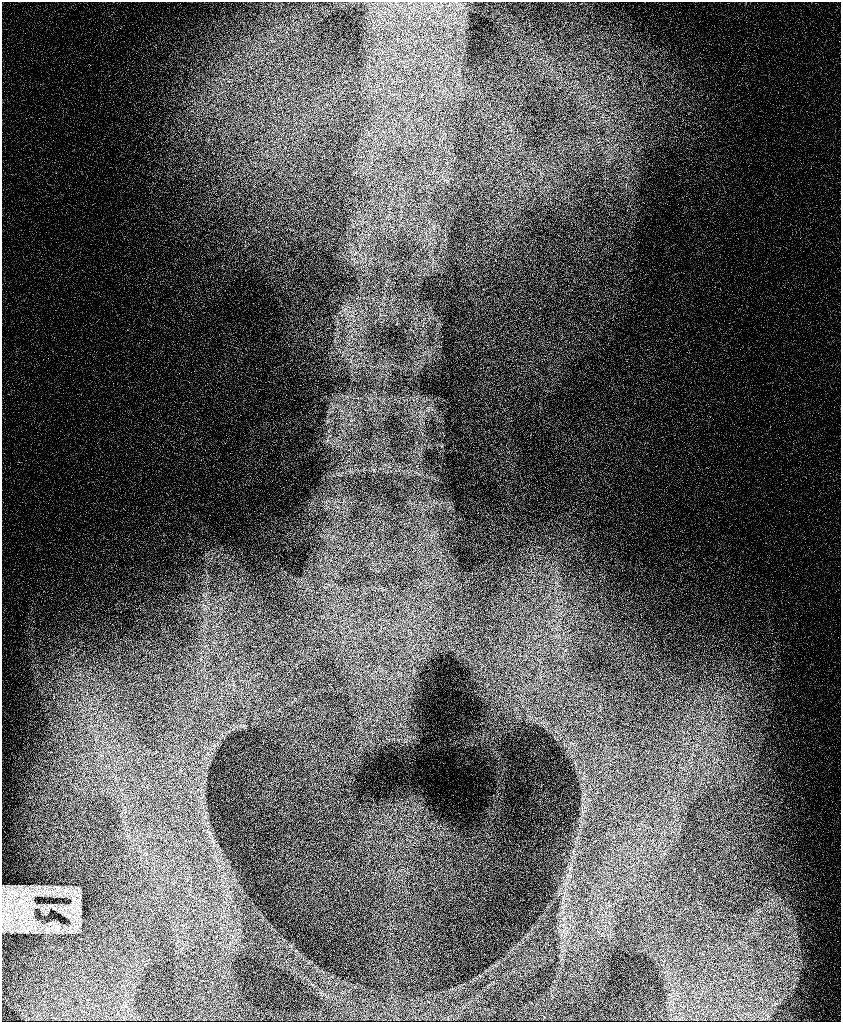lumbar scoliosis: (296, 117, 474, 620)
